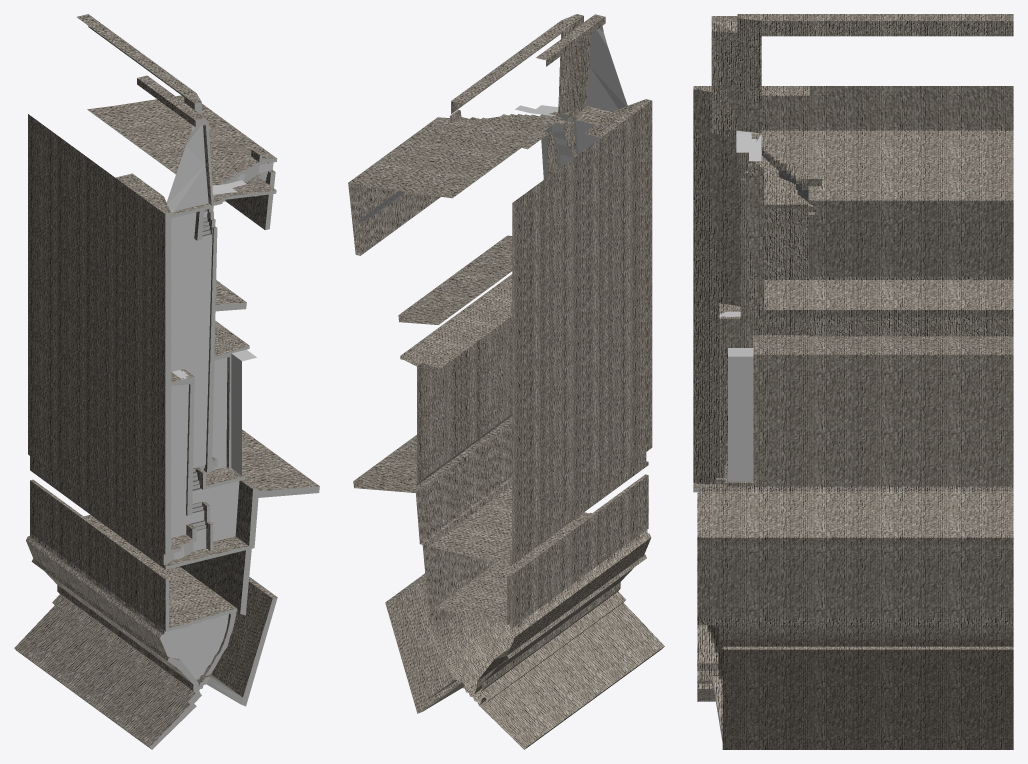
File: Taani_kuninga_aed-origo.obj
3 views of the same model, side by side, from view 1: azimuth 30°, elevation 25°; view 2: azimuth 150°, elevation 25°; view 3: azimuth 270°, elevation 25° (orthographic). The views are drawn at different scales.
Parts seen in each view (by area): view 1: Taani_kuninga_aed; view 2: Taani_kuninga_aed; view 3: Taani_kuninga_aed.
Boxes of the visible parts, left/top/right/bottom form: Taani_kuninga_aed: left=14, top=14, right=319, bottom=749; Taani_kuninga_aed: left=348, top=14, right=664, bottom=749; Taani_kuninga_aed: left=693, top=14, right=1013, bottom=749.
Size of the model in its own units: 28 by 94.5 by 38.
